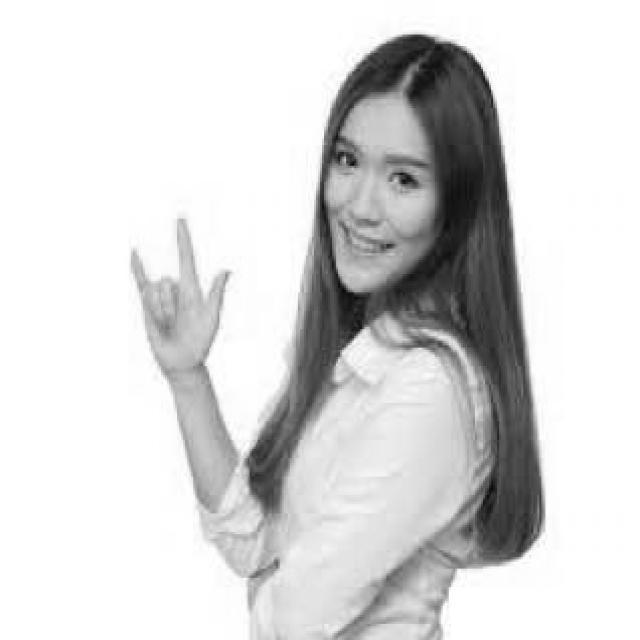i love you: (122, 208, 239, 388)
